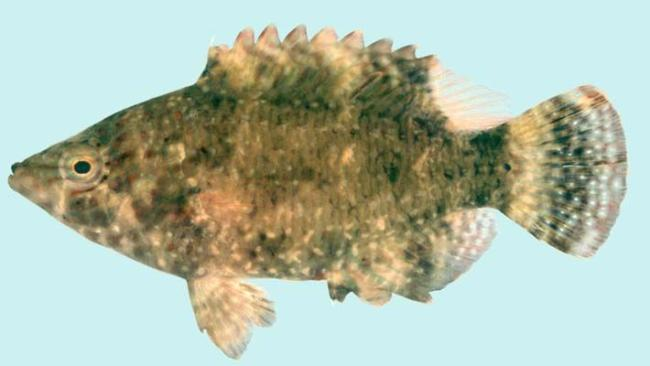fish: (8, 24, 627, 363)
